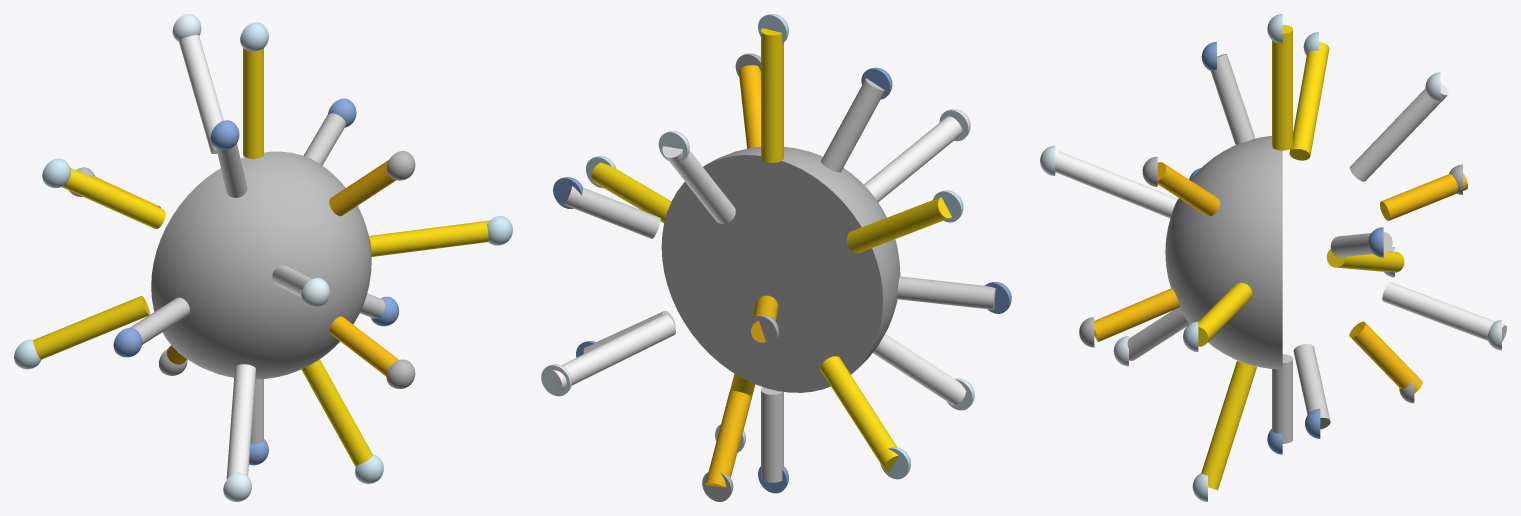
The model's file is 12_dendritic_cell_APC - Composite part 1.glb.
3 views of the same model, side by side, from view 1: azimuth 30°, elevation 25°; view 2: azimuth 150°, elevation 25°; view 3: azimuth 270°, elevation 25° (orthographic). The views are drawn at different scales.
Parts seen in each view (by area): view 1: Open CASCADE STEP translator 7.9 12.1, Open CASCADE STEP translator 7.9 12.26, Open CASCADE STEP translator 7.9 12.18, Open CASCADE STEP translator 7.9 12.34, Open CASCADE STEP translator 7.9 12.30, Open CASCADE STEP translator 7.9 12.10, Open CASCADE STEP translator 7.9 12.2, Open CASCADE STEP translator 7.9 12.6, Open CASCADE STEP translator 7.9 12.24, Open CASCADE STEP translator 7.9 12.8, Open CASCADE STEP translator 7.9 12.20, Open CASCADE STEP translator 7.9 12.12 (+15 smaller); view 2: Open CASCADE STEP translator 7.9 12.1, Open CASCADE STEP translator 7.9 12.2, Open CASCADE STEP translator 7.9 12.22, Open CASCADE STEP translator 7.9 12.26, Open CASCADE STEP translator 7.9 12.14, Open CASCADE STEP translator 7.9 12.10, Open CASCADE STEP translator 7.9 12.30, Open CASCADE STEP translator 7.9 12.20, Open CASCADE STEP translator 7.9 12.4, Open CASCADE STEP translator 7.9 12.12, Open CASCADE STEP translator 7.9 12.32, Open CASCADE STEP translator 7.9 12.36 (+14 smaller); view 3: Open CASCADE STEP translator 7.9 12.1, Open CASCADE STEP translator 7.9 12.14, Open CASCADE STEP translator 7.9 12.34, Open CASCADE STEP translator 7.9 12.22, Open CASCADE STEP translator 7.9 12.6, Open CASCADE STEP translator 7.9 12.10, Open CASCADE STEP translator 7.9 12.2, Open CASCADE STEP translator 7.9 12.24, Open CASCADE STEP translator 7.9 12.4, Open CASCADE STEP translator 7.9 12.32, Open CASCADE STEP translator 7.9 12.16, Open CASCADE STEP translator 7.9 12.28 (+6 smaller).
Part boxes in pixels (bbox=[...]): Open CASCADE STEP translator 7.9 12.1: bbox=[151, 151, 371, 379]; Open CASCADE STEP translator 7.9 12.26: bbox=[33, 295, 150, 359]; Open CASCADE STEP translator 7.9 12.18: bbox=[369, 220, 489, 256]; Open CASCADE STEP translator 7.9 12.34: bbox=[301, 359, 372, 466]; Open CASCADE STEP translator 7.9 12.30: bbox=[226, 364, 255, 479]; Open CASCADE STEP translator 7.9 12.10: bbox=[62, 168, 165, 229]; Open CASCADE STEP translator 7.9 12.2: bbox=[243, 48, 263, 158]; Open CASCADE STEP translator 7.9 12.6: bbox=[179, 35, 223, 153]; Open CASCADE STEP translator 7.9 12.24: bbox=[329, 316, 398, 376]; Open CASCADE STEP translator 7.9 12.8: bbox=[329, 160, 396, 216]; Open CASCADE STEP translator 7.9 12.20: bbox=[130, 297, 189, 344]; Open CASCADE STEP translator 7.9 12.12: bbox=[303, 113, 345, 165]; Open CASCADE STEP translator 7.9 12.1: bbox=[661, 146, 900, 392]; Open CASCADE STEP translator 7.9 12.2: bbox=[761, 28, 783, 162]; Open CASCADE STEP translator 7.9 12.22: bbox=[552, 314, 675, 391]; Open CASCADE STEP translator 7.9 12.26: bbox=[820, 356, 898, 471]; Open CASCADE STEP translator 7.9 12.14: bbox=[864, 116, 962, 202]; Open CASCADE STEP translator 7.9 12.10: bbox=[846, 197, 951, 253]; Open CASCADE STEP translator 7.9 12.30: bbox=[873, 334, 966, 405]; Open CASCADE STEP translator 7.9 12.20: bbox=[897, 276, 995, 309]; Open CASCADE STEP translator 7.9 12.4: bbox=[821, 78, 884, 172]; Open CASCADE STEP translator 7.9 12.12: bbox=[562, 186, 660, 238]; Open CASCADE STEP translator 7.9 12.32: bbox=[705, 391, 751, 487]; Open CASCADE STEP translator 7.9 12.36: bbox=[761, 387, 783, 482]; Open CASCADE STEP translator 7.9 12.1: bbox=[1165, 136, 1282, 369]; Open CASCADE STEP translator 7.9 12.14: bbox=[1055, 151, 1178, 218]; Open CASCADE STEP translator 7.9 12.34: bbox=[1201, 360, 1256, 489]; Open CASCADE STEP translator 7.9 12.22: bbox=[1382, 282, 1506, 341]; Open CASCADE STEP translator 7.9 12.6: bbox=[1349, 83, 1448, 181]; Open CASCADE STEP translator 7.9 12.10: bbox=[1289, 41, 1329, 160]; Open CASCADE STEP translator 7.9 12.2: bbox=[1272, 24, 1292, 150]; Open CASCADE STEP translator 7.9 12.24: bbox=[1094, 288, 1179, 341]; Open CASCADE STEP translator 7.9 12.4: bbox=[1210, 53, 1254, 144]; Open CASCADE STEP translator 7.9 12.32: bbox=[1349, 321, 1422, 393]; Open CASCADE STEP translator 7.9 12.16: bbox=[1380, 173, 1467, 220]; Open CASCADE STEP translator 7.9 12.28: bbox=[1293, 344, 1330, 429].
Bounding box in the file's own units: 0.0199 × 0.0211 × 0.0199.
